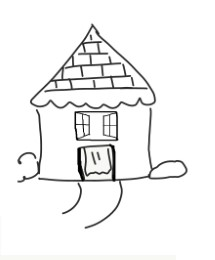door: (72, 142, 120, 186)
open_window: (72, 108, 123, 143)
roof: (30, 23, 155, 110)
wall: (34, 101, 156, 183)
